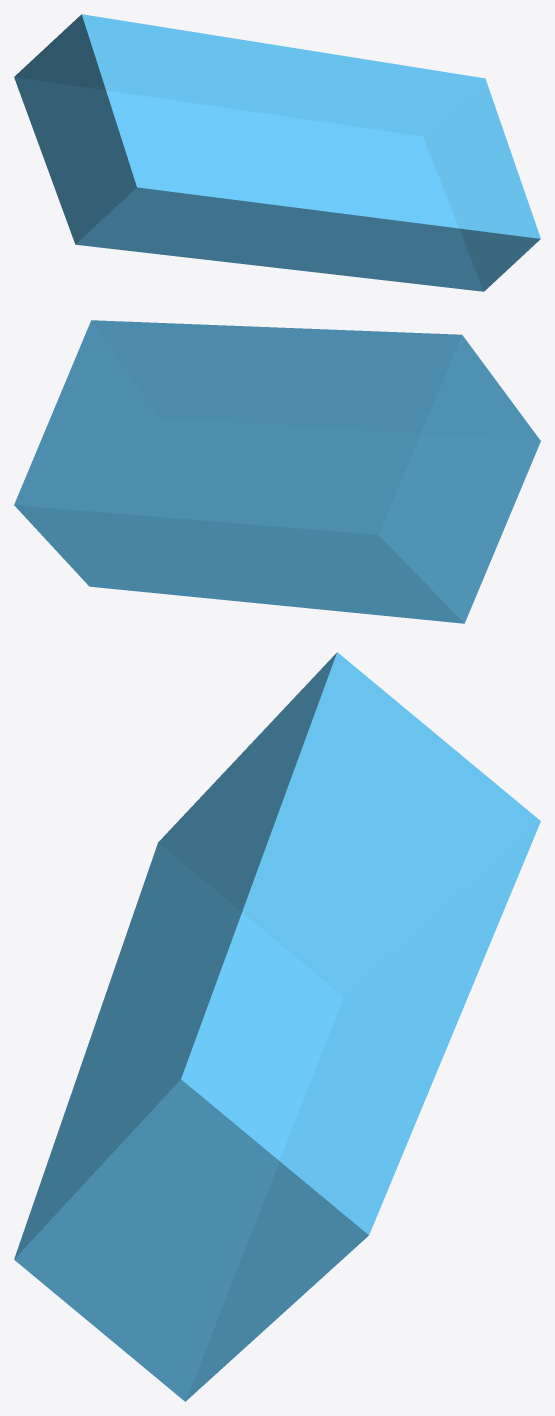
The model's file is Event_420604493_HErechit_25.fbx.
3 renders of one model, top to bottom at view 1: azimuth 30°, elevation 25°; view 2: azimuth 150°, elevation 25°; view 3: azimuth 270°, elevation 25°, orthographic. The views are drawn at different scales.
Visible parts, largest first — view 1: Model; view 2: Model; view 3: Model.
Boxes of the visible parts, x1,y1,x2,y2 form: Model: (14, 14, 540, 291); Model: (14, 320, 540, 623); Model: (14, 652, 540, 1401).
Size of the model in its own units: 0.9318 by 0.8167 by 0.7937.
